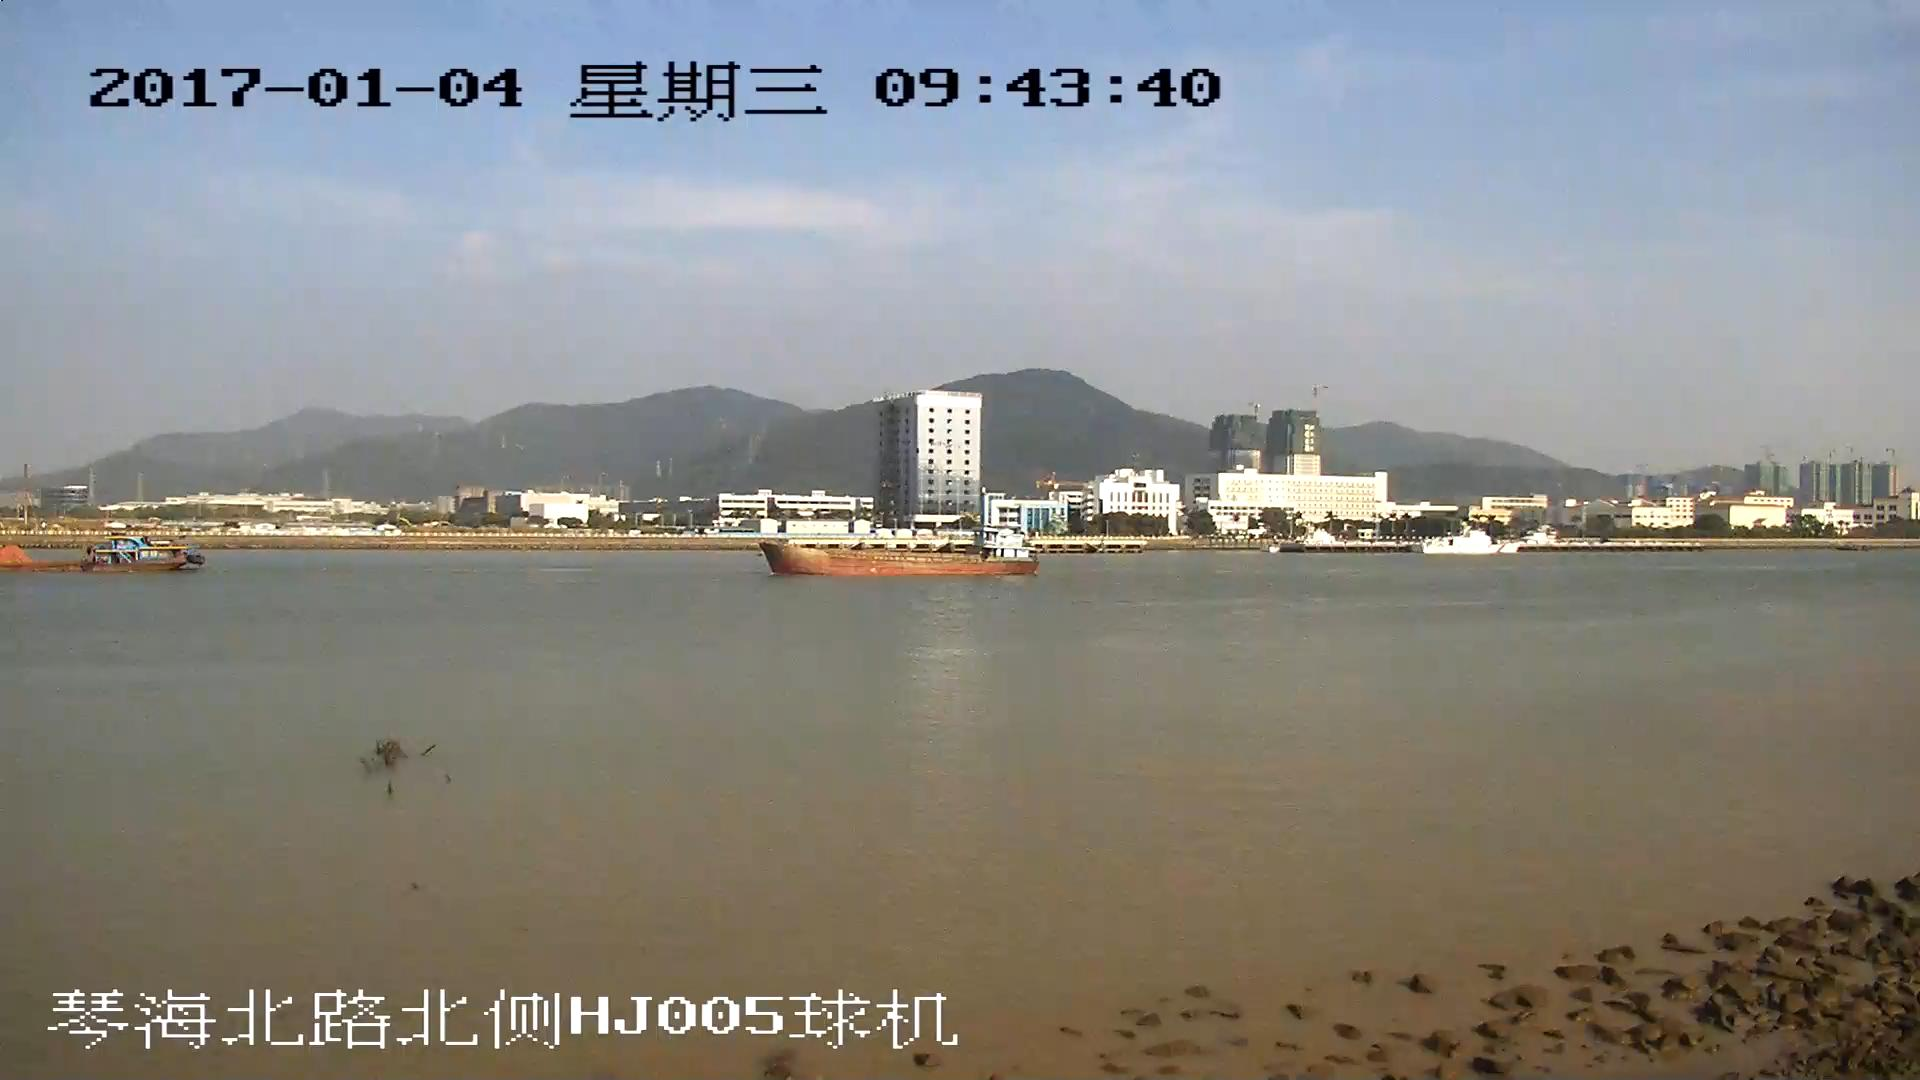bulk cargo carrier: (760, 529, 1032, 575)
ore carrier: (1, 538, 195, 571)
